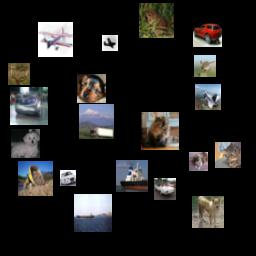airplane: (38, 22, 73, 57), (195, 84, 221, 110), (102, 35, 118, 51)
automobile: (10, 87, 48, 125), (193, 18, 222, 47), (154, 178, 176, 200), (60, 170, 76, 186)
bird: (194, 55, 216, 77)
cat: (141, 112, 179, 150), (215, 142, 241, 168)
deer: (8, 63, 30, 85)
dog: (192, 196, 224, 228), (77, 74, 106, 103), (11, 129, 40, 158), (189, 152, 208, 171)
frog: (139, 3, 174, 38)
ship: (74, 194, 112, 232), (116, 160, 148, 192)
truck: (18, 161, 53, 196), (79, 104, 114, 139)
